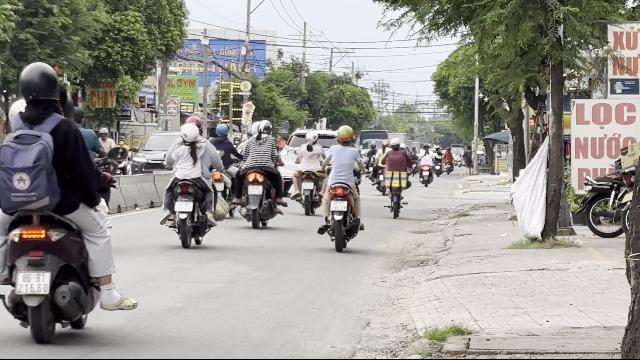helmet: (16, 62, 64, 114), (179, 124, 201, 144), (336, 124, 354, 144), (184, 115, 202, 129), (258, 121, 272, 136), (248, 121, 260, 136)
licenseplate: (17, 272, 51, 294), (330, 200, 348, 211), (175, 201, 192, 211), (248, 185, 262, 195)
motorcyclist: (0, 62, 132, 342), (158, 114, 218, 246), (316, 124, 366, 250), (234, 118, 286, 228)
